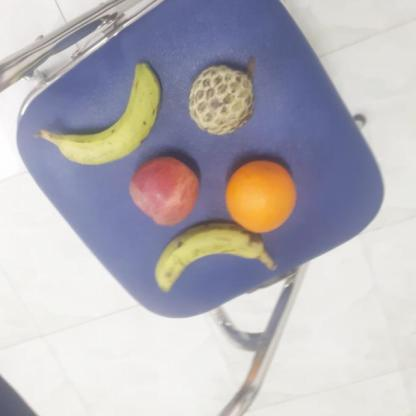annona: (183, 66, 258, 137)
apple: (123, 157, 202, 227)
banana: (58, 61, 166, 168), (146, 221, 267, 298)
orange: (224, 161, 298, 237)
